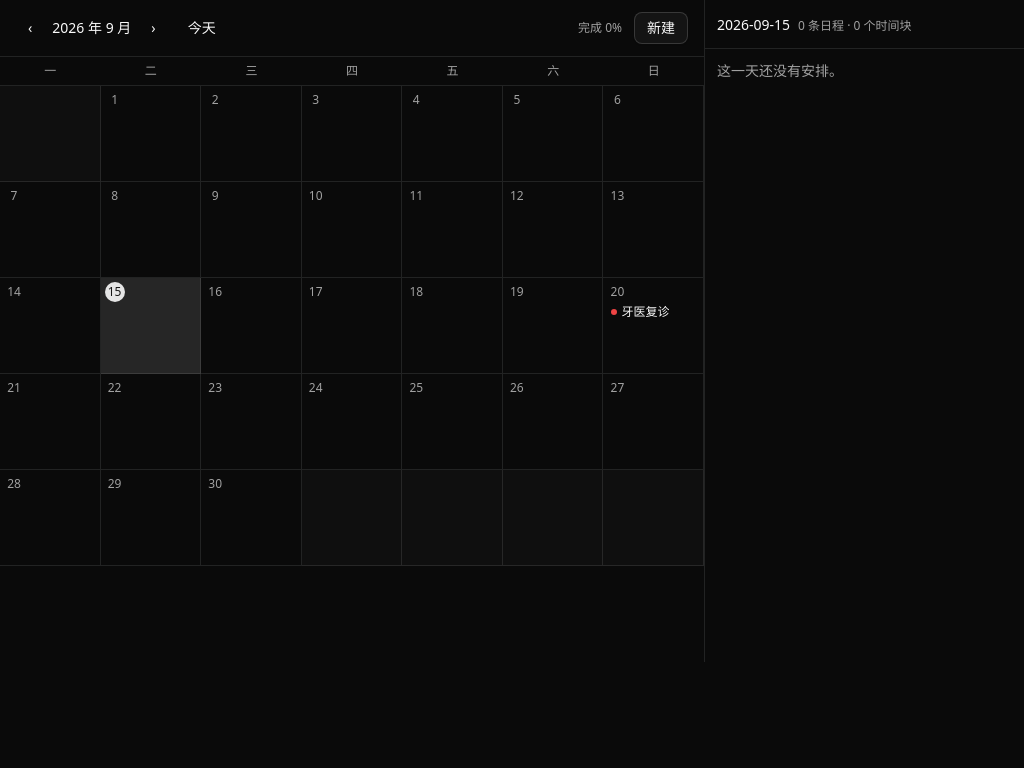
Test: SchedulesView › 点击格子里的日程会选中它所在的那天
The width and height of the screenshot is (1024, 768).
Click the button "牙医复诊": (653, 312) [607,304,699,320]
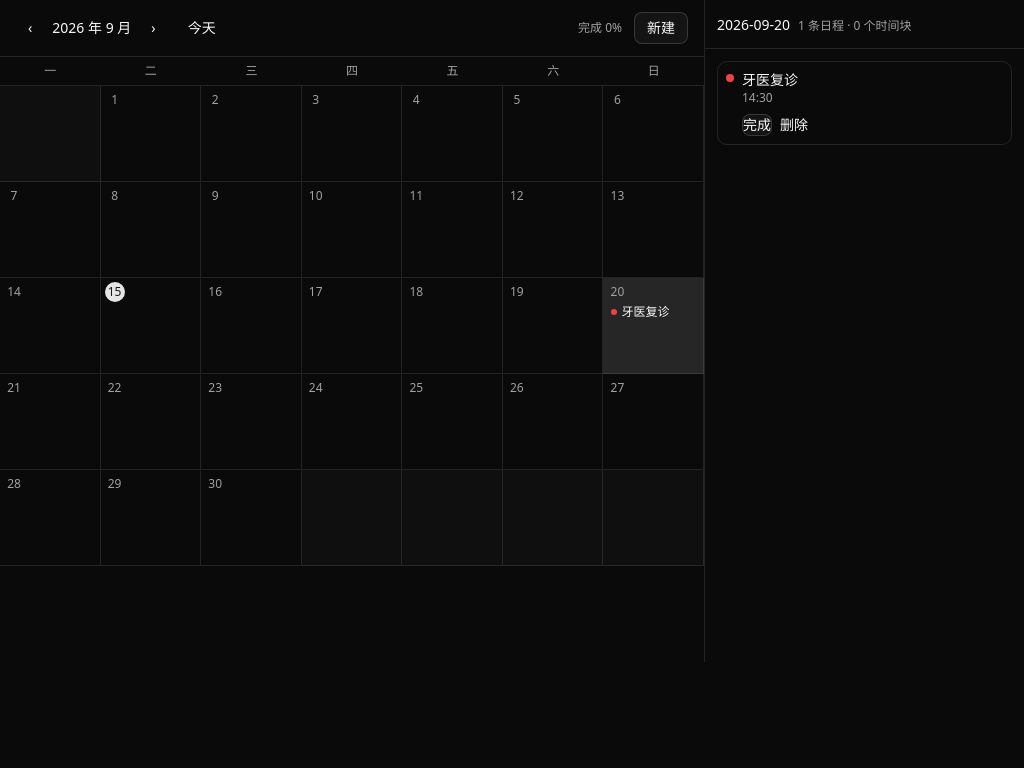
Expected: the text "2026-09-20" is shown, [717,15,790,34]
